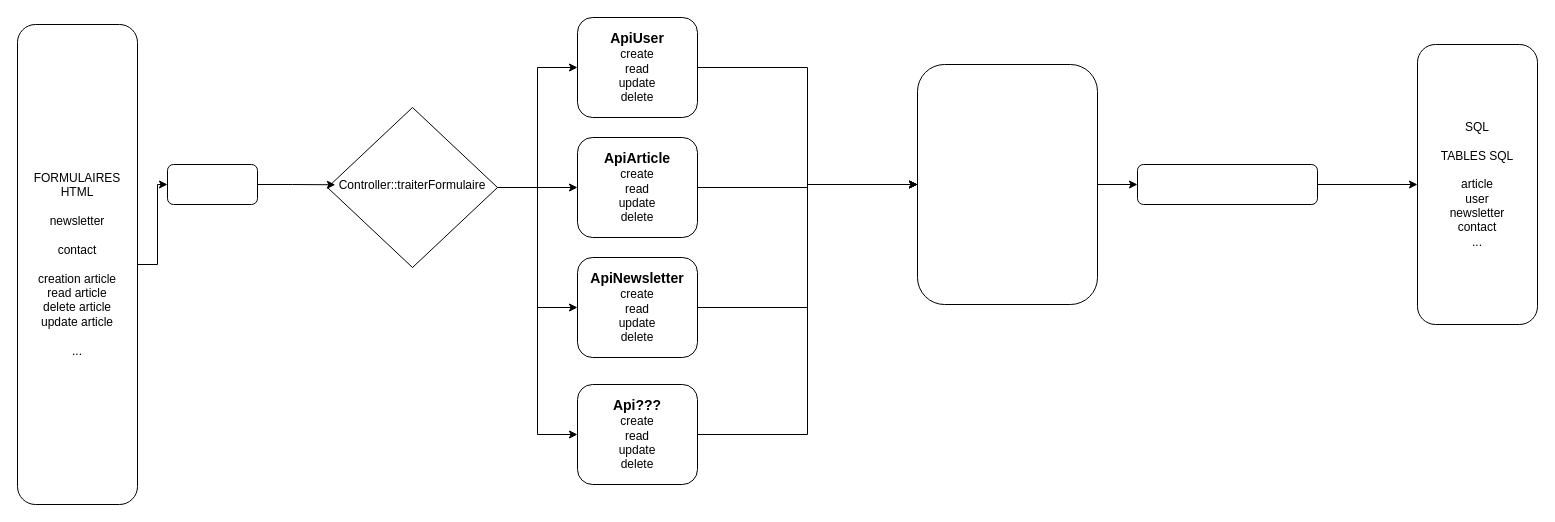
Image size: 1555x522. Some labels were removed from this diagram. Here are the shapes that lost their labels. From the top down, the centre of each, then its label:
At (212,184): "api.php".
At (1007,184): "Model insert read delete update ...".
At (1227,184): "Model::envoyerRequeteSQL".
